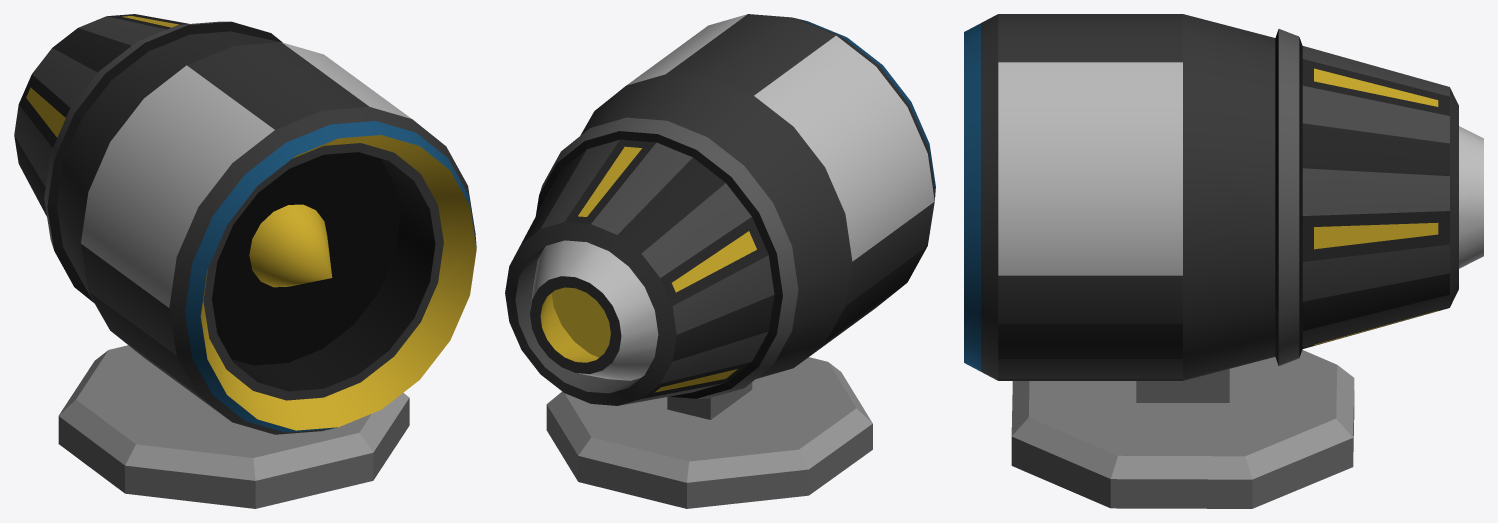
3 renders of one model, left to right at view 1: azimuth 30°, elevation 25°; view 2: azimuth 150°, elevation 25°; view 3: azimuth 270°, elevation 25°, orthographic. The views are drawn at different scales.
Parts seen in each view (by area): view 1: Thruster_T1_Thruster_T1_vertex_colors; view 2: Thruster_T1_Thruster_T1_vertex_colors; view 3: Thruster_T1_Thruster_T1_vertex_colors.
Boxes of the visible parts, bbox=[...] form: Thruster_T1_Thruster_T1_vertex_colors: bbox=[14, 14, 476, 508]; Thruster_T1_Thruster_T1_vertex_colors: bbox=[505, 14, 935, 508]; Thruster_T1_Thruster_T1_vertex_colors: bbox=[964, 14, 1483, 508].
Size of the model in its own units: 2 by 2.43 by 2.81.
